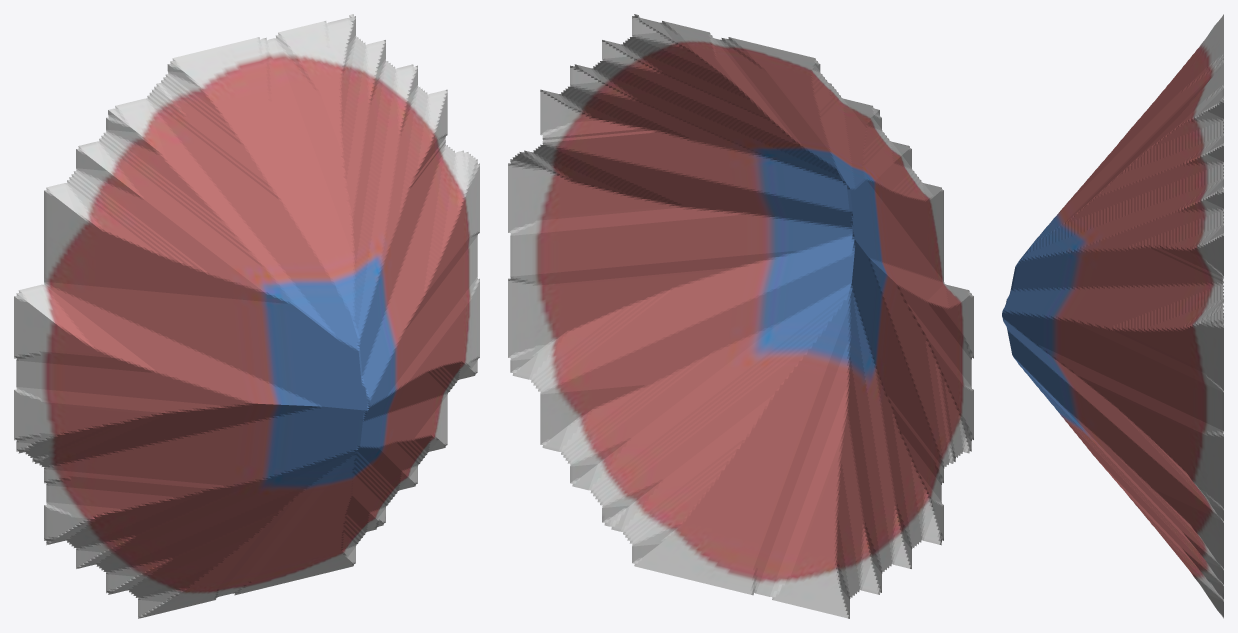
The picture shows the model from 3 angles, left to right: view 1: azimuth 30°, elevation 25°; view 2: azimuth 150°, elevation 25°; view 3: azimuth 270°, elevation 25°; orthographic projection. The views are drawn at different scales.
Visible parts, largest first — view 1: geometry_0; view 2: geometry_0; view 3: geometry_0.
Boxes of the visible parts, x1,y1,x2,y2 form: geometry_0: [14, 14, 479, 618]; geometry_0: [508, 14, 973, 618]; geometry_0: [1002, 14, 1223, 618].
Bounding box in the file's own units: 0.8826 × 1 × 0.3856.
